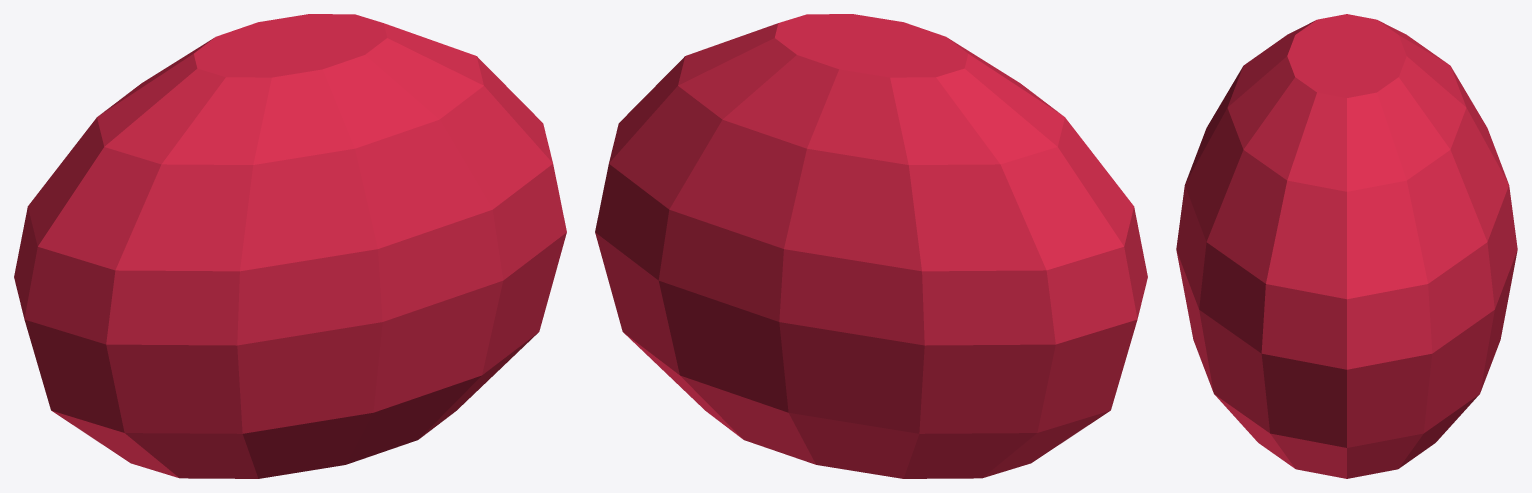
File: SM_Ruby_Normal.fbx
3 renders of one model, left to right at view 1: azimuth 30°, elevation 25°; view 2: azimuth 150°, elevation 25°; view 3: azimuth 270°, elevation 25°, orthographic. The views are drawn at different scales.
Parts seen in each view (by area): view 1: SM_Ruby_Normal; view 2: SM_Ruby_Normal; view 3: SM_Ruby_Normal.
Part boxes in pixels (<box>): SM_Ruby_Normal: <box>14,14,566,478</box>; SM_Ruby_Normal: <box>595,14,1147,478</box>; SM_Ruby_Normal: <box>1176,14,1517,478</box>.
Size of the model in its own units: 20 by 12 by 15.
